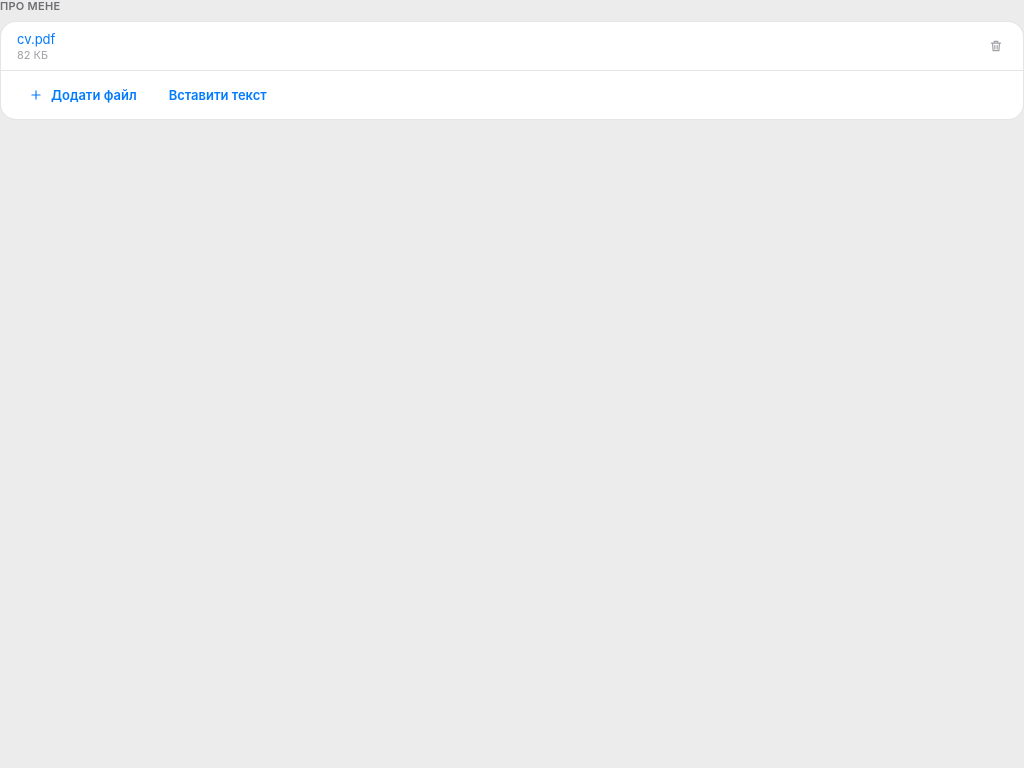
Test: ResourcesPanel, looking inside a material › shows what was read out of a material that is ready
Click the text "cv.pdf" at (36, 39), box [17,30,55,48]
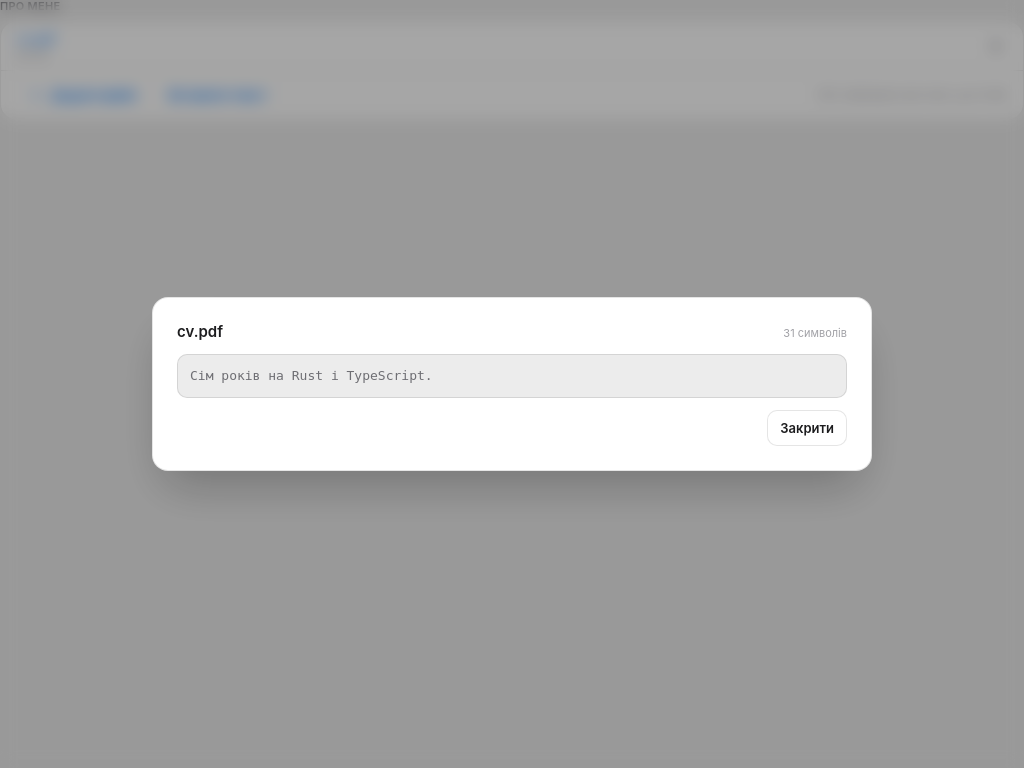
Result: the text "Сім років на Rust і TypeScript." is shown at [177,354,847,398]
